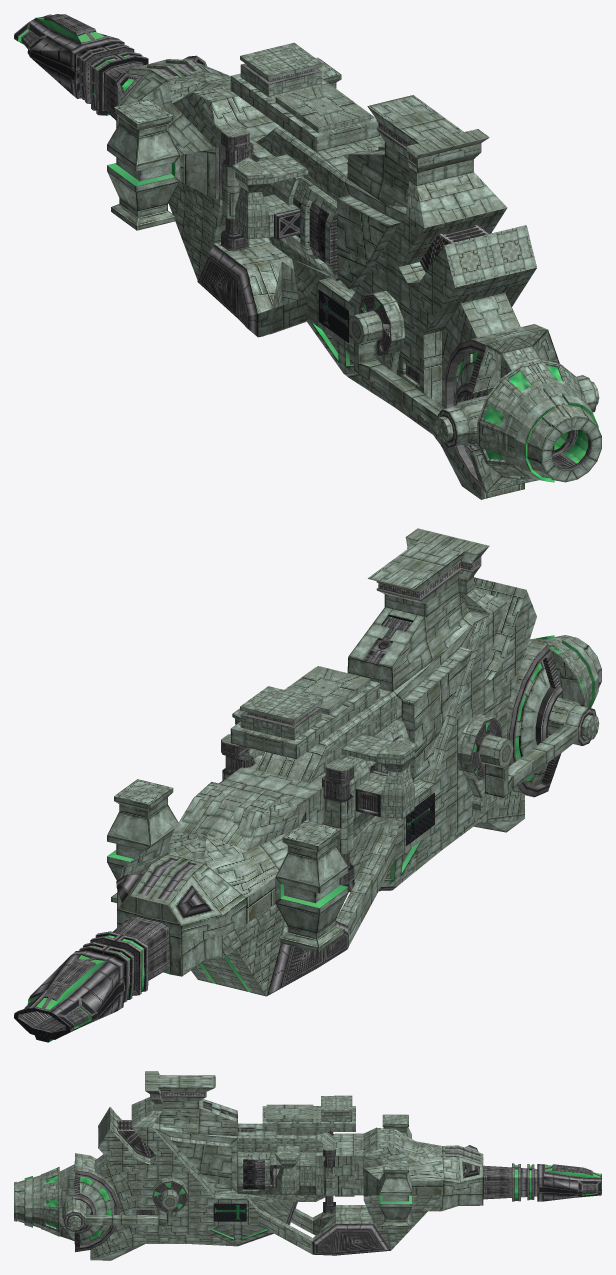
The model's file is destroyer.obj.
3 views of the same model, one above another, from view 1: azimuth 30°, elevation 25°; view 2: azimuth 150°, elevation 25°; view 3: azimuth 270°, elevation 25° (orthographic). The views are drawn at different scales.
Parts seen in each view (by area): view 1: cube1_cop9; view 2: cube1_cop9; view 3: cube1_cop9.
Part boxes in pixels (bbox=[...]): cube1_cop9: bbox=[14, 14, 601, 499]; cube1_cop9: bbox=[14, 528, 601, 1042]; cube1_cop9: bbox=[14, 1071, 601, 1260].
Bounding box in the file's own units: 25.52 × 35.81 × 110.
Materials: 5 (4 with a texture image).
